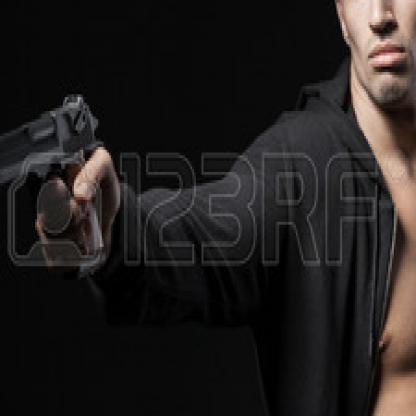gun: (0, 75, 113, 261)
